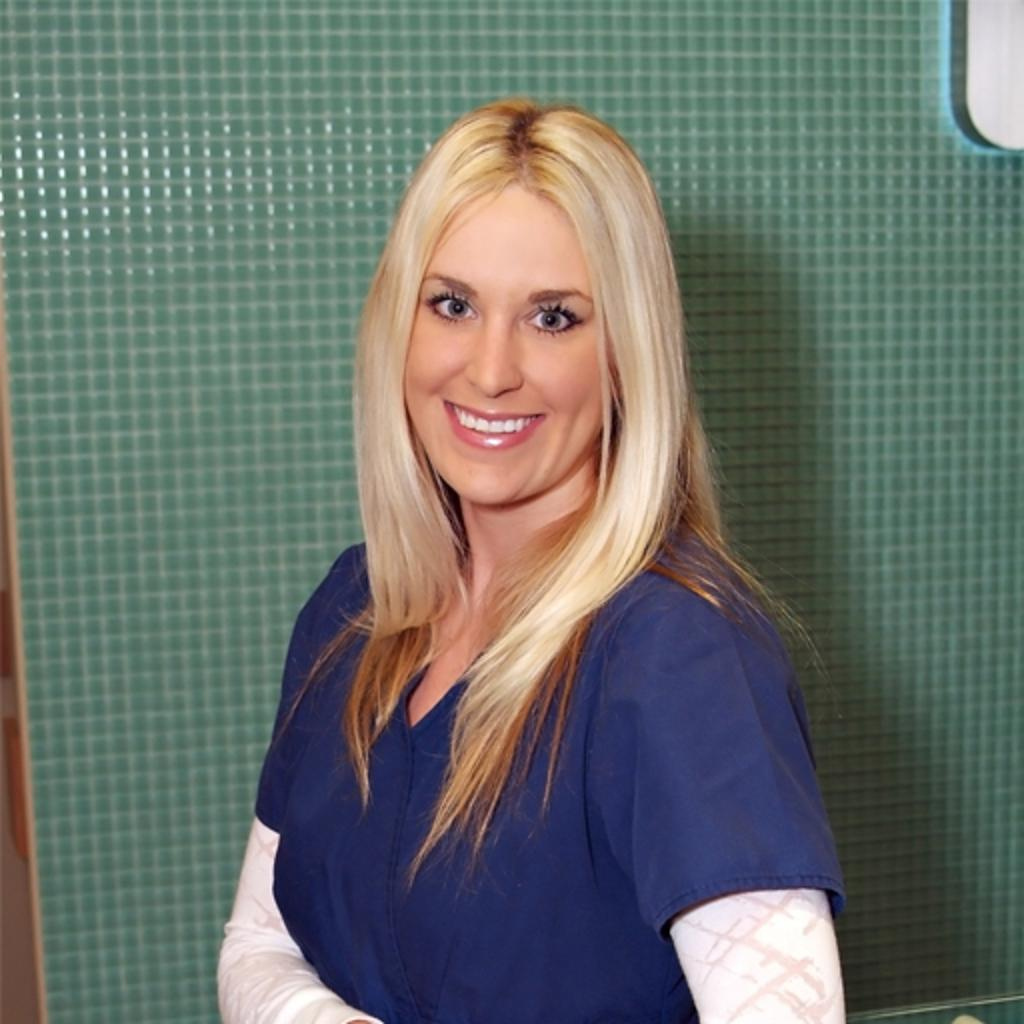face: (416, 222, 612, 504)
